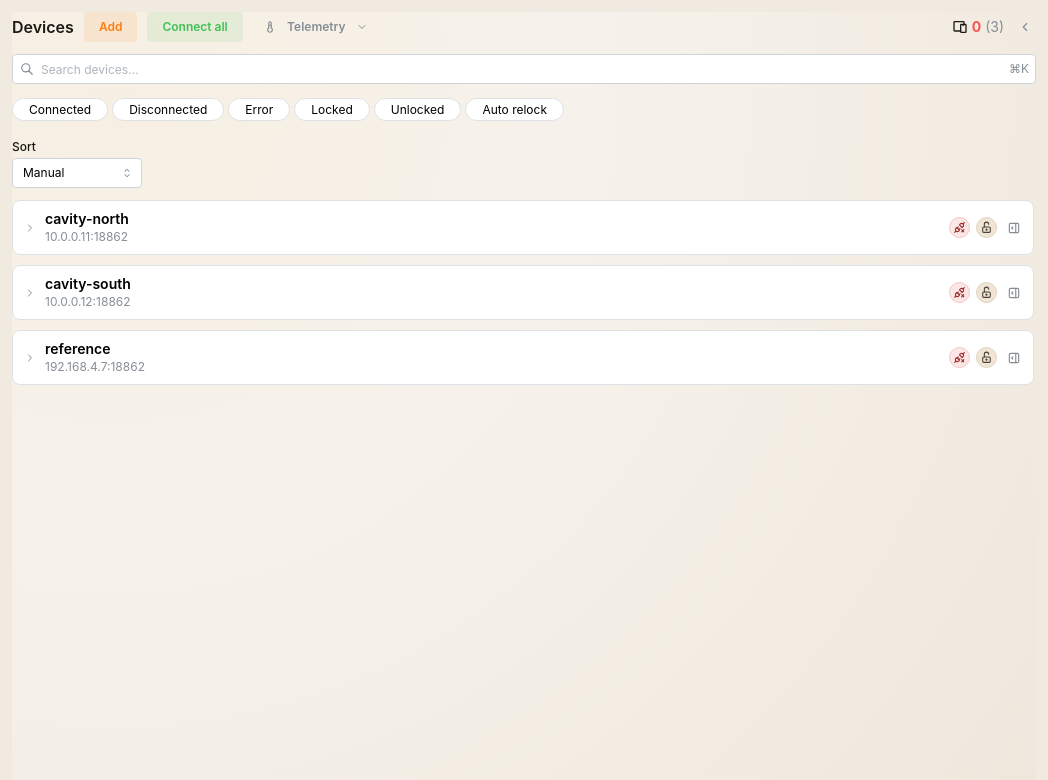
Test case: DeviceList search and rows › says so when nothing matches, rather than showing an empty panel
The image size is (1048, 780).
Type "nope" into the field labelled "Search devices" at (524, 69), box [12,54,1036,84]
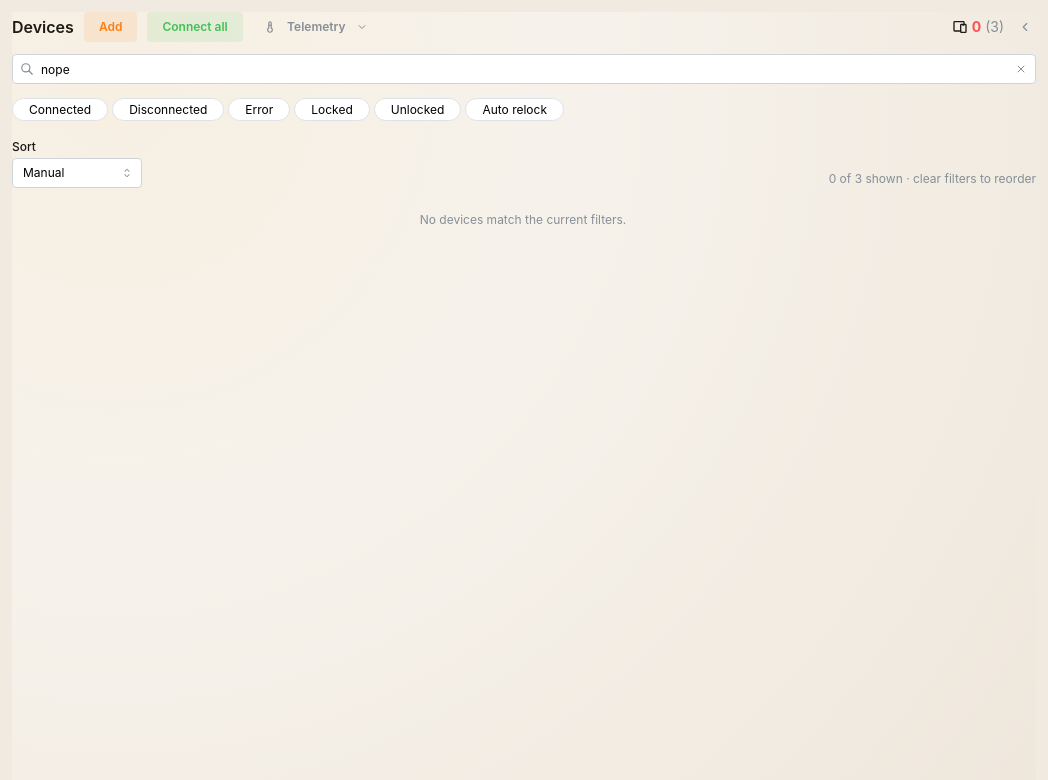
Now the text "No devices match the current filters." is shown, box [420,212,626,227]
